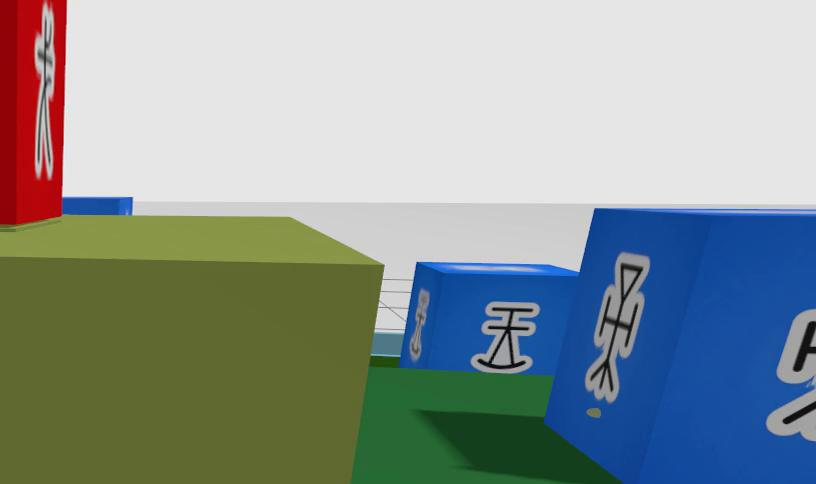KFS_FAKE: (0, 0, 66, 225), (34, 3, 55, 176)
KFS_REAL: (546, 209, 815, 484), (400, 263, 577, 373), (585, 252, 649, 402), (778, 309, 815, 386), (766, 389, 815, 440)
